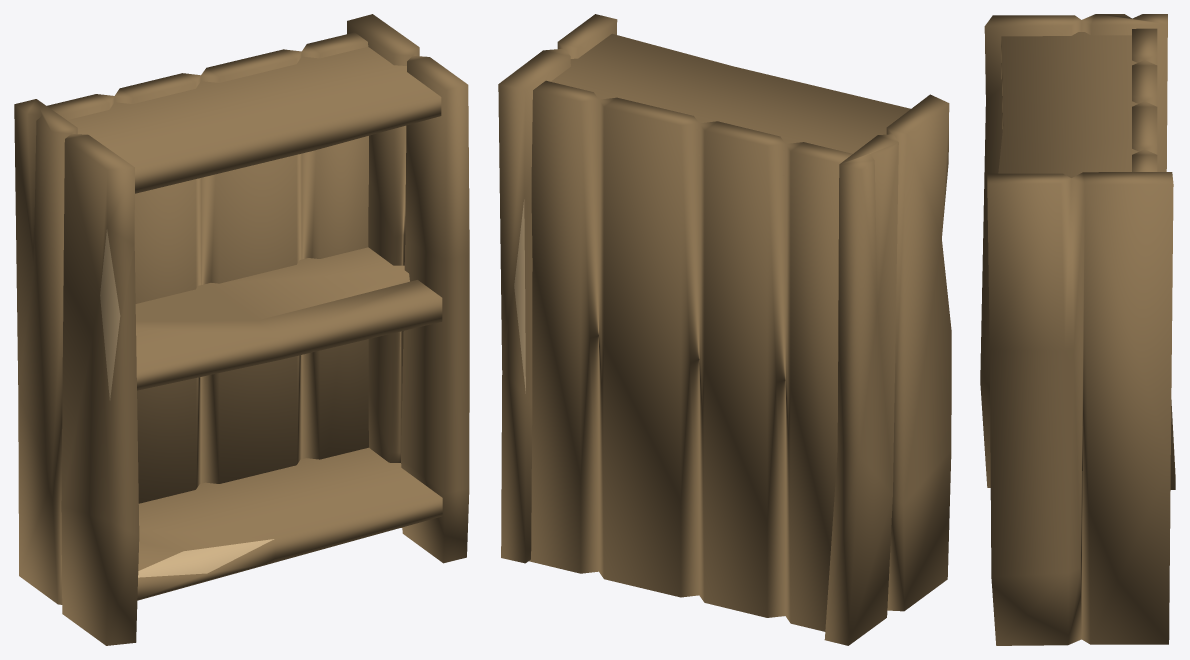
Rendered from rpgpp_ag_shelf_wood_01b.fbx.
3 renders of one model, left to right at view 1: azimuth 30°, elevation 25°; view 2: azimuth 150°, elevation 25°; view 3: azimuth 270°, elevation 25°, orthographic. The views are drawn at different scales.
Visible parts, largest first — view 1: rpgpp_ag_shelf_wood_01b; view 2: rpgpp_ag_shelf_wood_01b; view 3: rpgpp_ag_shelf_wood_01b.
Boxes of the visible parts, x1,y1,x2,y2 form: rpgpp_ag_shelf_wood_01b: [14, 14, 469, 645]; rpgpp_ag_shelf_wood_01b: [498, 14, 951, 645]; rpgpp_ag_shelf_wood_01b: [980, 14, 1175, 645].
Size of the model in its own units: 1.05 by 1.32 by 0.5056.
